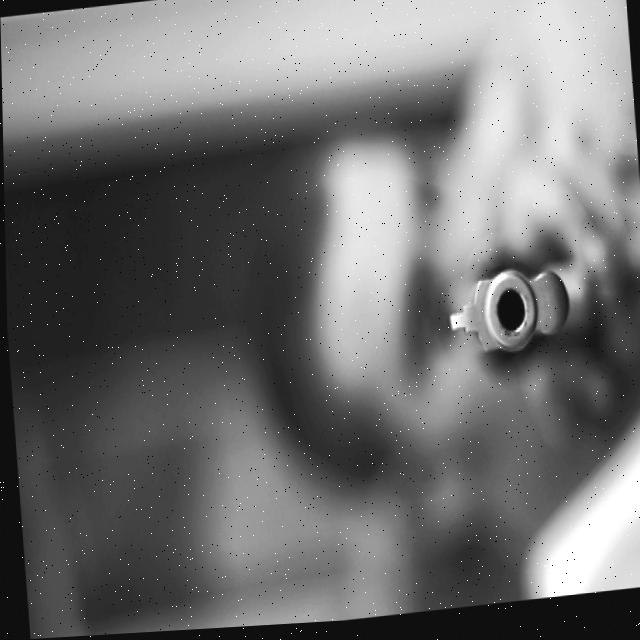pistol: (438, 239, 578, 394)
